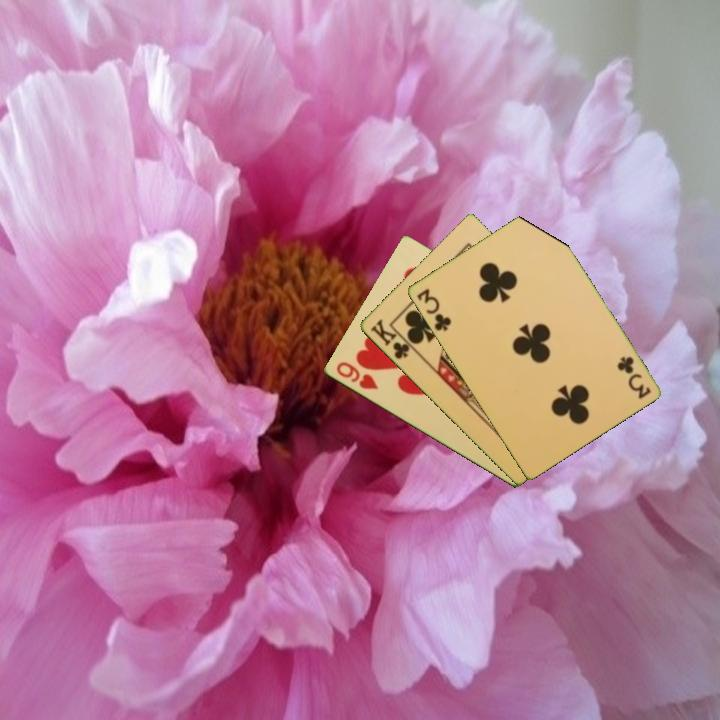3c: (413, 285, 454, 334), (613, 353, 653, 402)
9h: (332, 358, 381, 393)
Kc: (367, 315, 418, 362)
